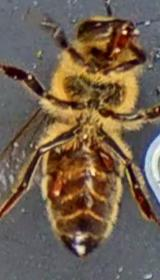varroa_mite: (44, 162, 68, 204), (93, 142, 114, 176)
